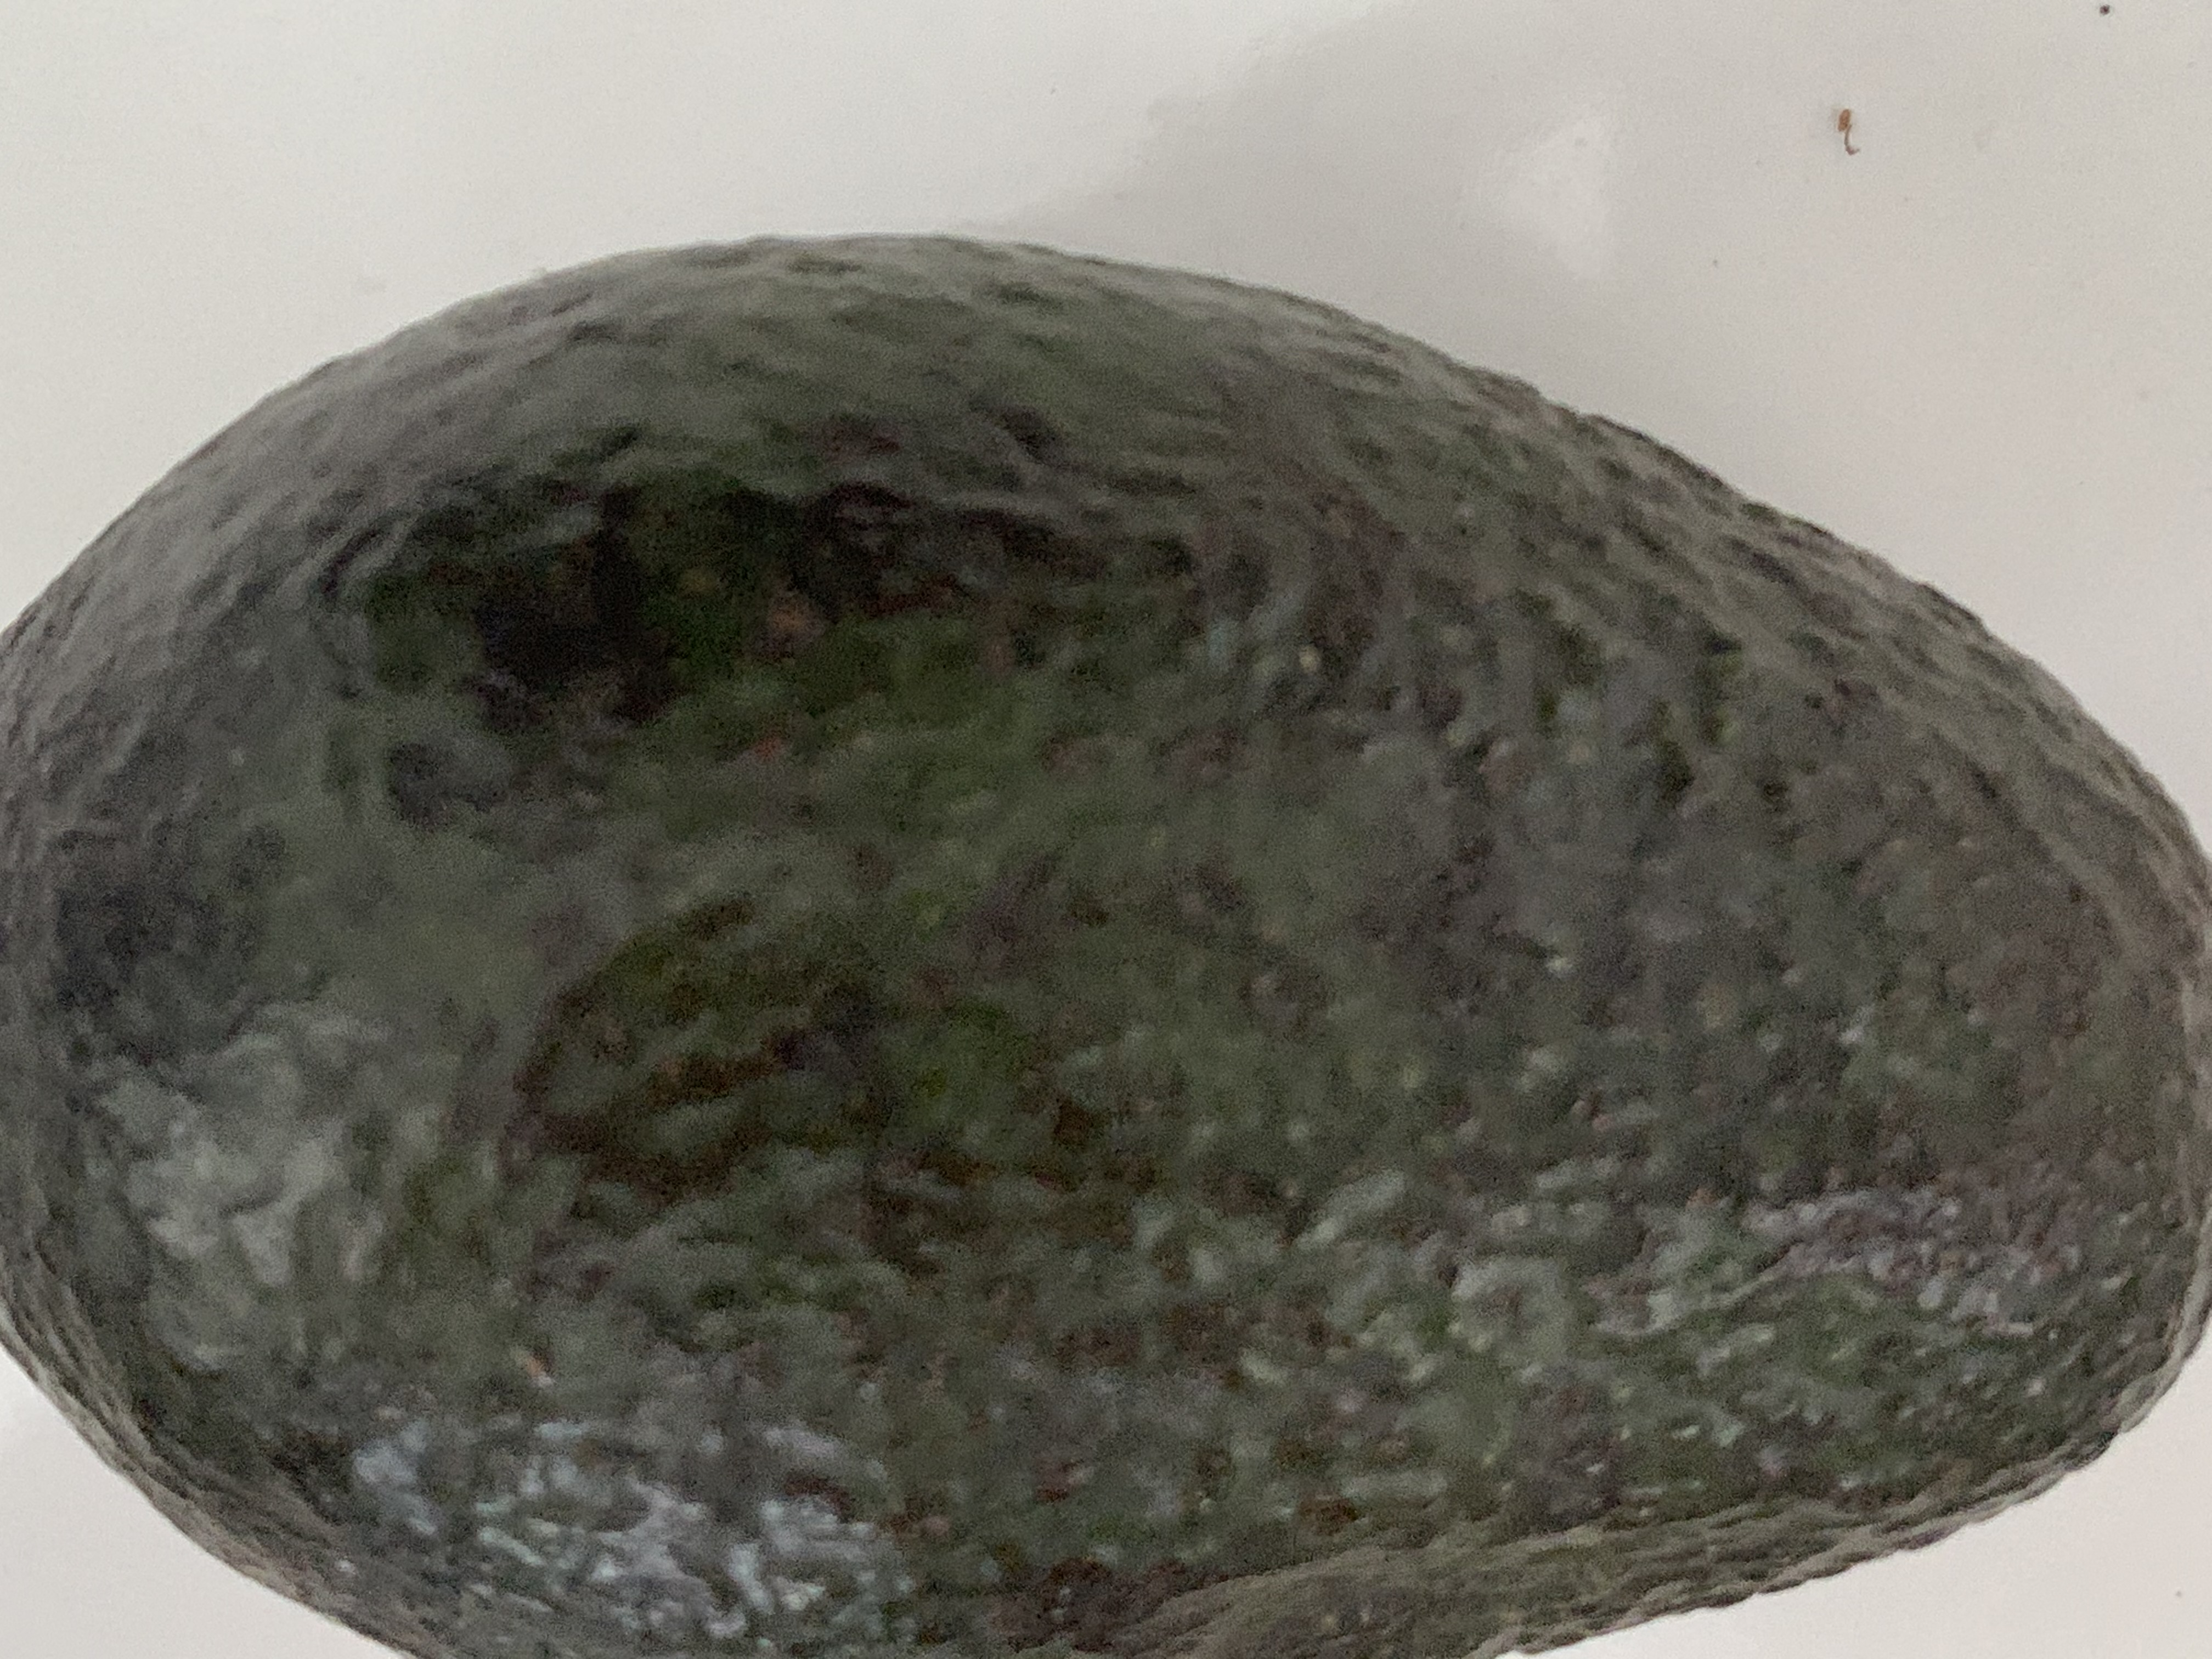avocado: (12, 291, 2212, 1656)
